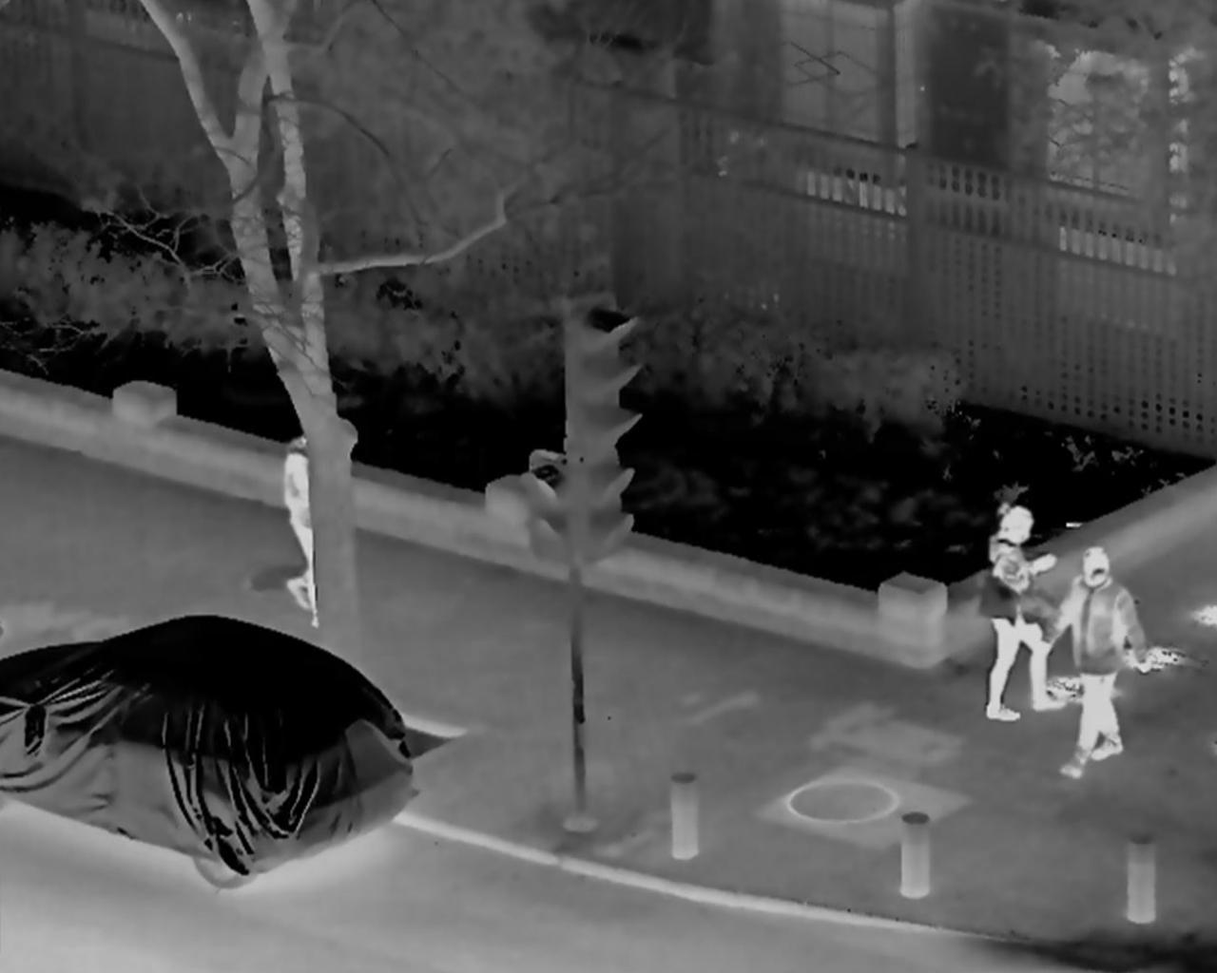person: (1051, 548, 1148, 773), (975, 508, 1066, 726), (276, 429, 341, 625)
